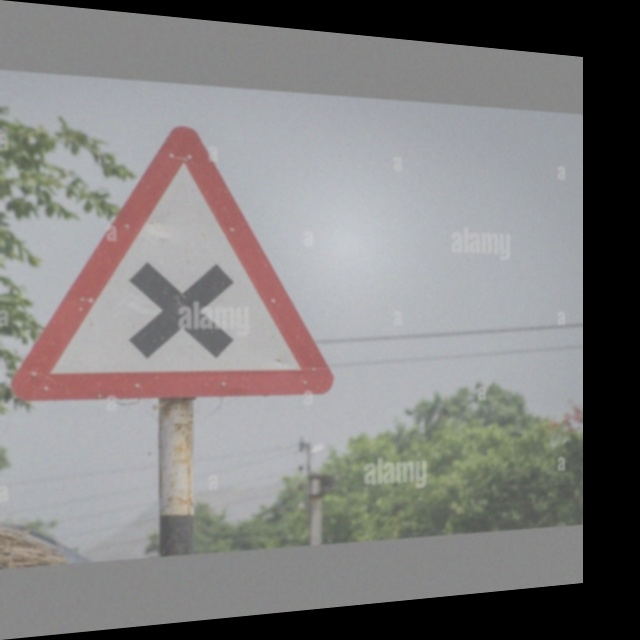Cross_Road: (34, 130, 332, 400)
